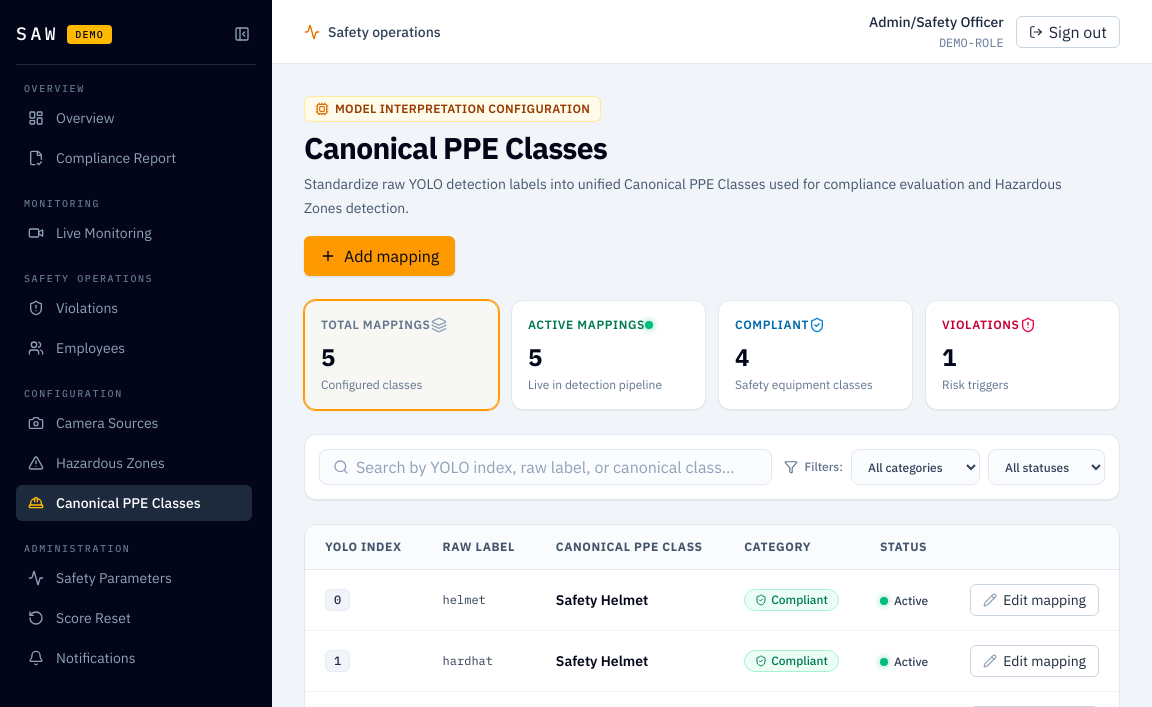
it: Canonical PPE Classes › validates duplicate YOLO indices and presents the mapping preview in English
The width and height of the screenshot is (1152, 707).
Step 1. Click the button "Add mapping" → (380, 256), box [304,236,455,276]
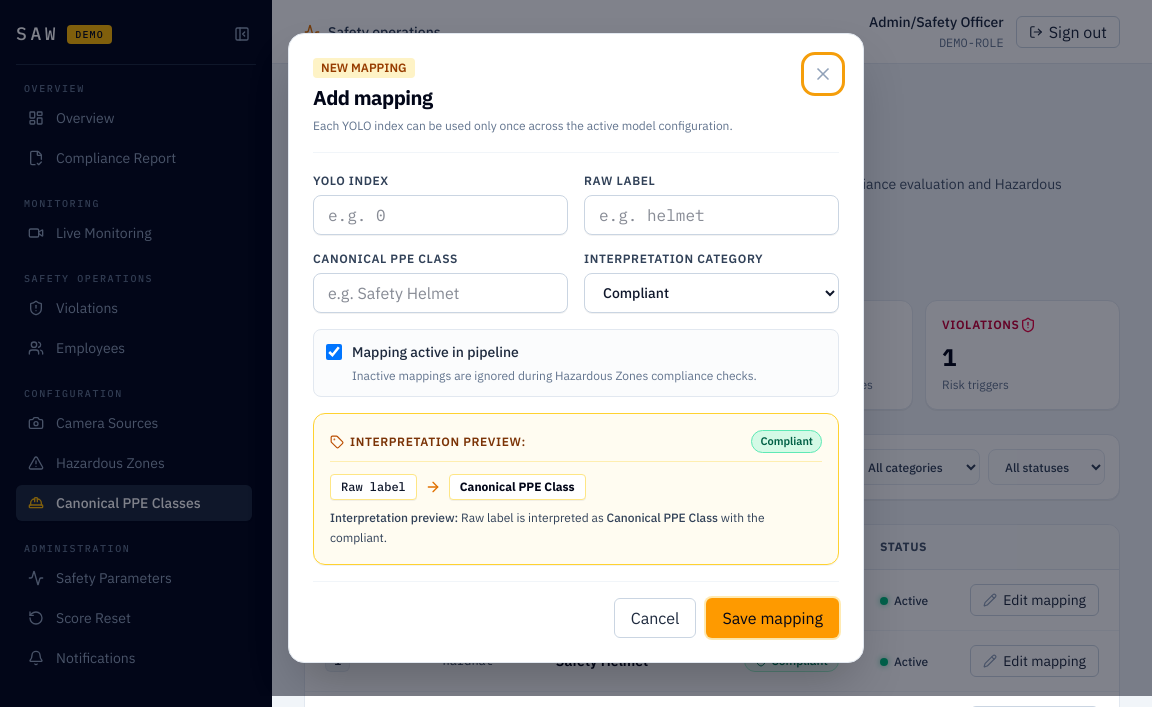
Step 2. Type "0" into the number field named "YOLO index" → (440, 215), box [313,195,568,235]
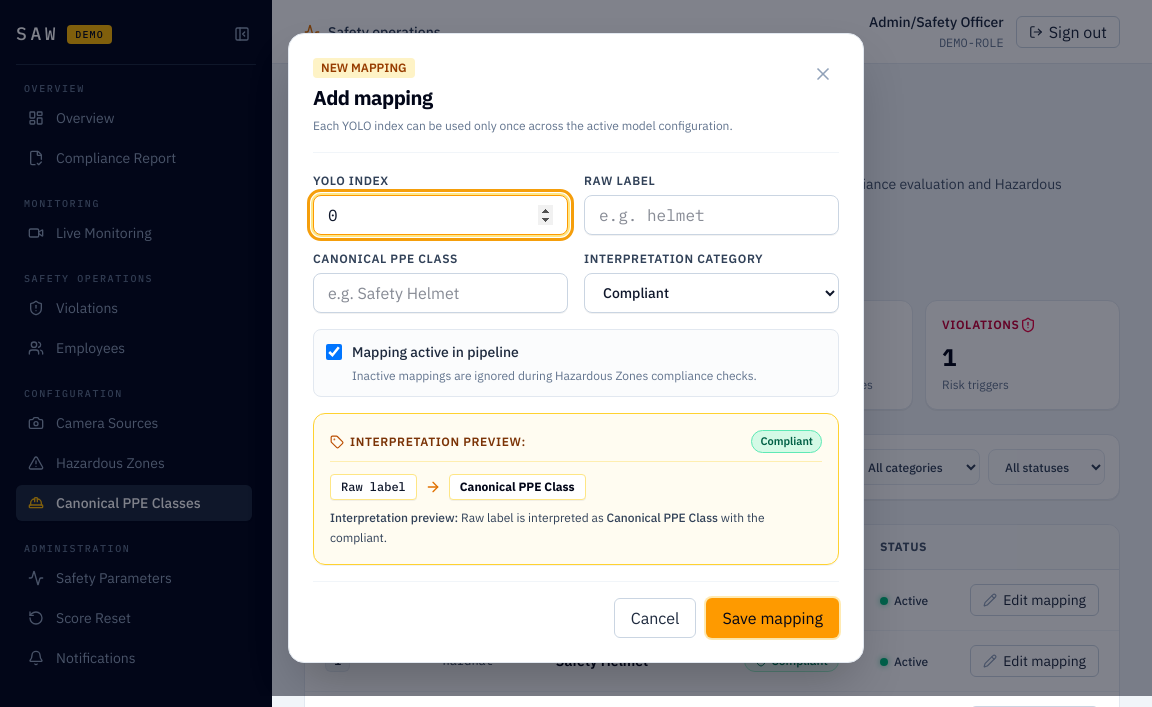
Step 3. Type "helmet-copy" into the field named "Raw label" → (712, 215), box [584,195,839,235]
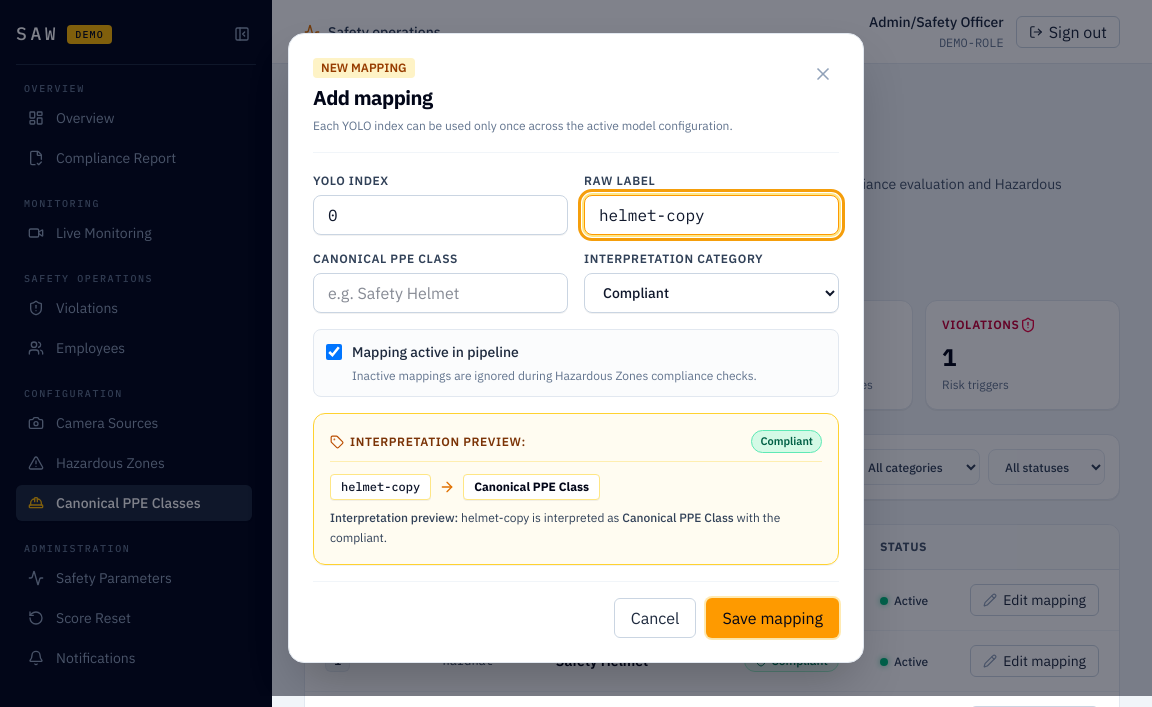
Step 4. Type "Safety Helmet" into the field named "Canonical PPE Class" → (440, 293), box [313,273,568,313]
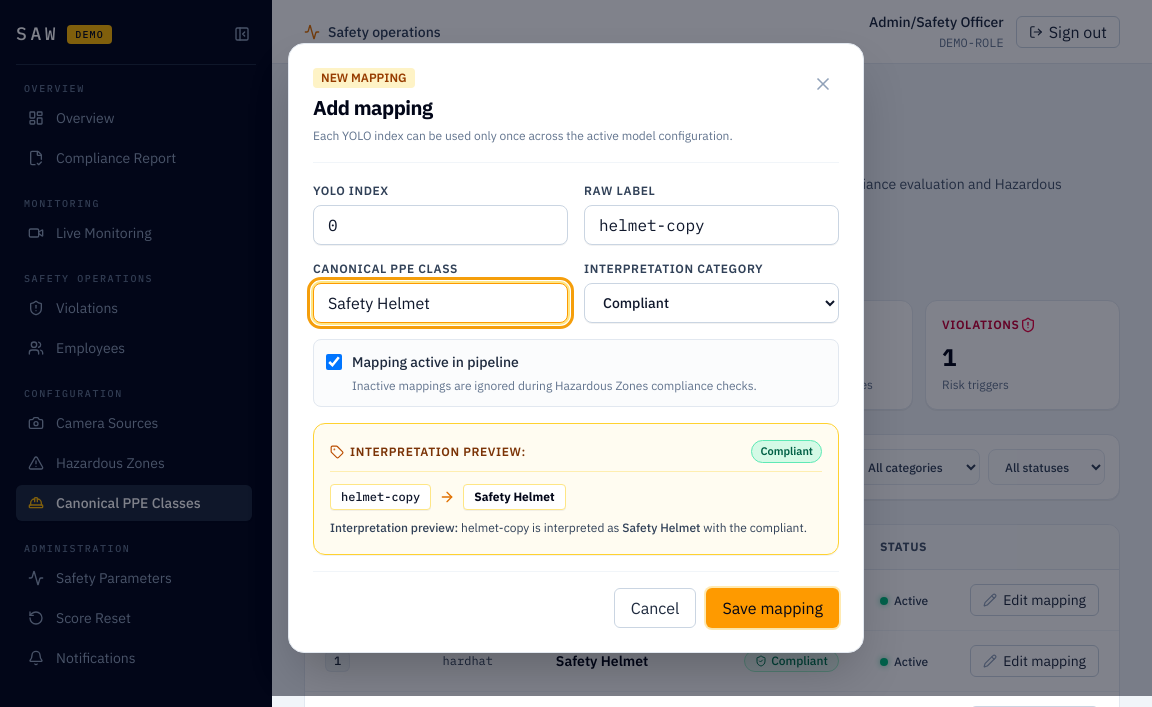
Expected: the element named "Mapping interpretation preview" shows "helmet-copy", [341,489,420,504]
Step 5. Click the button "Save mapping" → (773, 608), box [706,588,839,628]
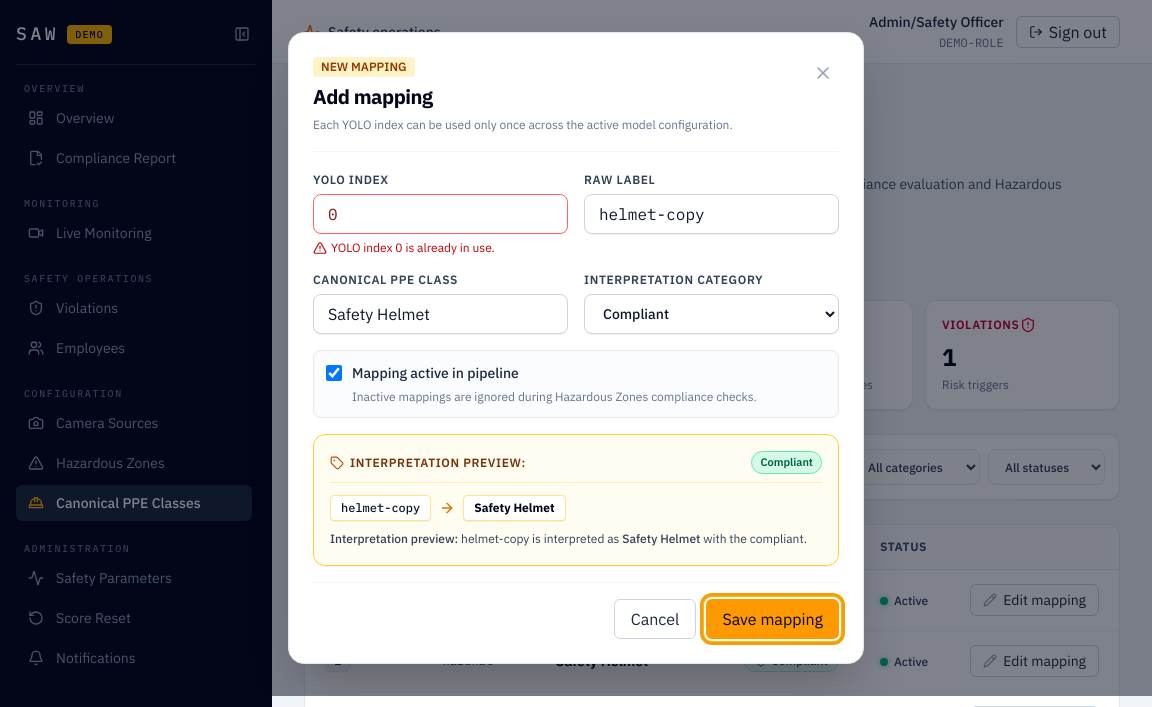
Expected: the message reads "YOLO index 0 is already in use.", [331,240,495,255]
